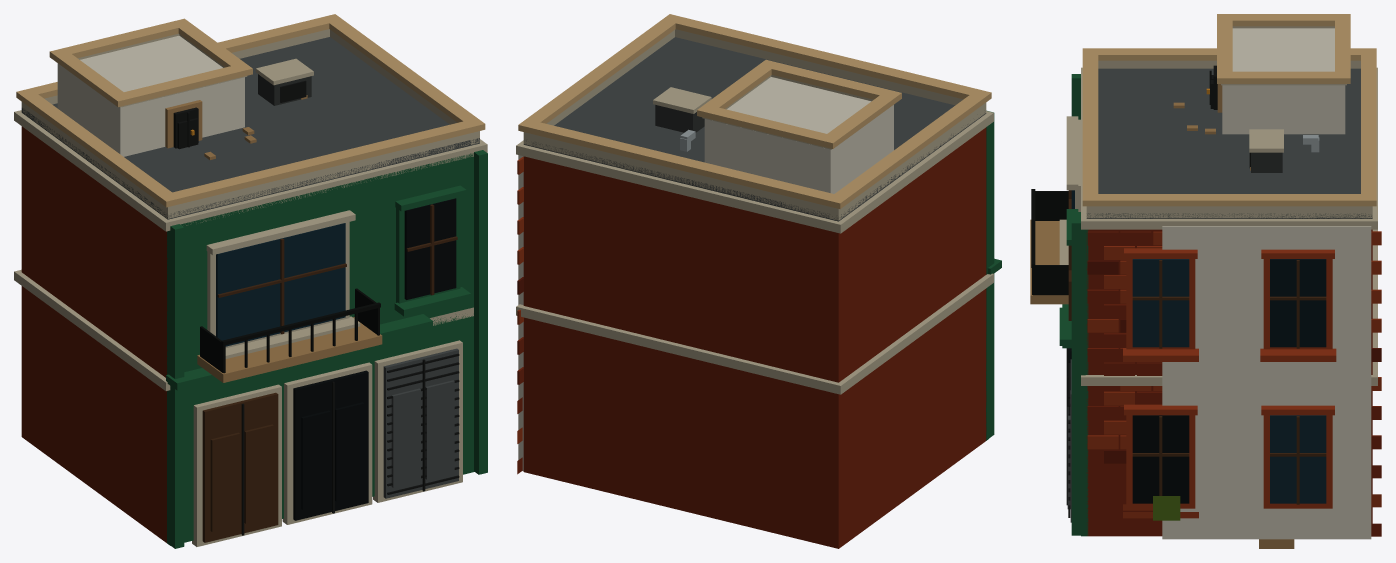
Rendered from SM_StreetFrontage_024.fbx.
The picture shows the model from 3 angles, left to right: view 1: azimuth 30°, elevation 25°; view 2: azimuth 150°, elevation 25°; view 3: azimuth 270°, elevation 25°; orthographic projection. The views are drawn at different scales.
Parts seen in each view (by area): view 1: SM_StreetFrontage_024; view 2: SM_StreetFrontage_024; view 3: SM_StreetFrontage_024.
Part boxes in pixels (x1,y1,x2,y2): SM_StreetFrontage_024: [14, 14, 487, 548]; SM_StreetFrontage_024: [516, 14, 1001, 548]; SM_StreetFrontage_024: [1030, 14, 1381, 548].
Size of the model in its own units: 7.59 by 6.99 by 8.46.
